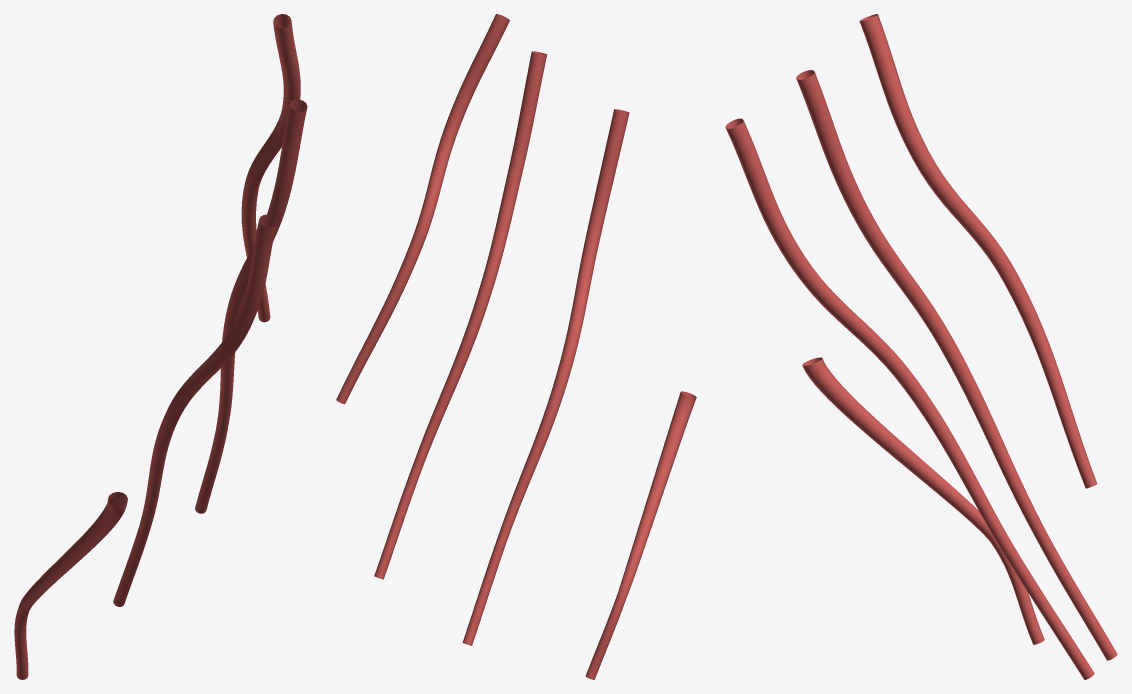
3 renders of one model, left to right at view 1: azimuth 30°, elevation 25°; view 2: azimuth 150°, elevation 25°; view 3: azimuth 270°, elevation 25°, orthographic. The views are drawn at different scales.
Parts seen in each view (by area): view 1: 左侧跖背动脉; view 2: 左侧跖背动脉; view 3: 左侧跖背动脉.
Boxes of the visible parts, box(x1,y1,x2,y2) form: 左侧跖背动脉: box(14, 14, 307, 679); 左侧跖背动脉: box(336, 14, 696, 679); 左侧跖背动脉: box(725, 14, 1117, 679).
Size of the model in its own units: 0.0596 by 0.1303 by 0.0638.
